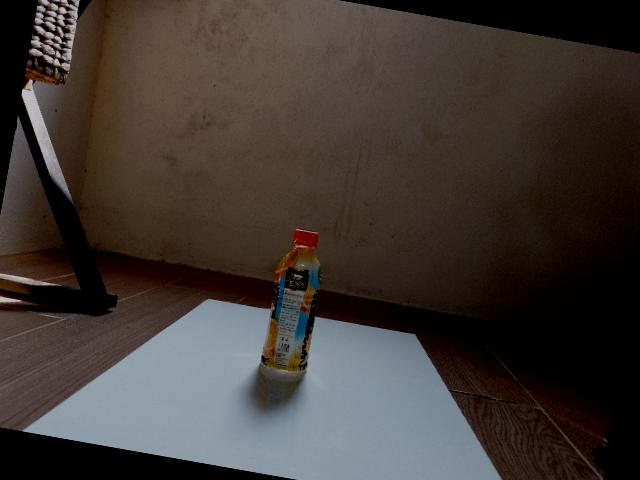teppy_orange_juice: (258, 229, 322, 382)
